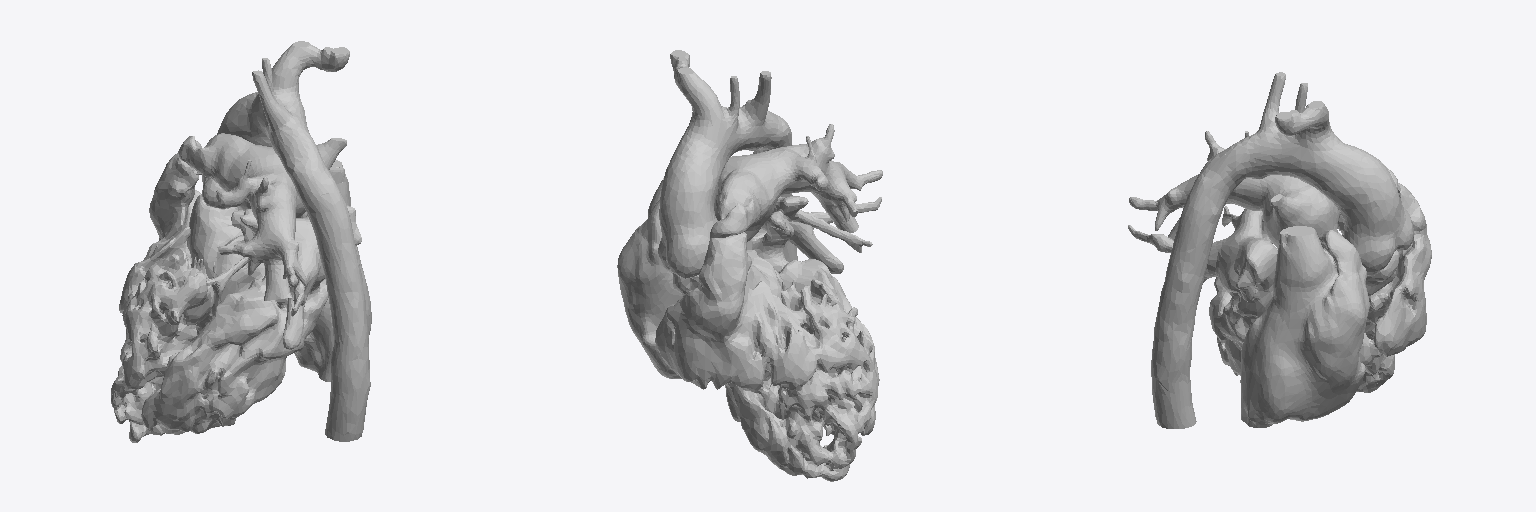
File: 2018008-01PulmonaryArterylowres.obj
3 renders of one model, left to right at view 1: azimuth 30°, elevation 25°; view 2: azimuth 150°, elevation 25°; view 3: azimuth 270°, elevation 25°, orthographic.
Visible parts, largest first — view 1: [number redacted]_Tga_Vsd_Rastelli_Repair_Left_Side_Edited, [number redacted]_Tga_Vsd_Rastelli_Repair_Ao_Edited, [number redacted]_Tga_Vsd_Rastelli_Repair_Rv_Edited, [number redacted]_Tga_Vsd_Rastelli_Repair_Pa_Edited, [number redacted]_Tga_Vsd_Rastelli_Repair_Ra_Edited; view 2: [number redacted]_Tga_Vsd_Rastelli_Repair_Rv_Edited, [number redacted]_Tga_Vsd_Rastelli_Repair_Ao_Edited, [number redacted]_Tga_Vsd_Rastelli_Repair_Pa_Edited, [number redacted]_Tga_Vsd_Rastelli_Repair_Left_Side_Edited, [number redacted]_Tga_Vsd_Rastelli_Repair_Ra_Edited; view 3: [number redacted]_Tga_Vsd_Rastelli_Repair_Ao_Edited, [number redacted]_Tga_Vsd_Rastelli_Repair_Ra_Edited, [number redacted]_Tga_Vsd_Rastelli_Repair_Left_Side_Edited, [number redacted]_Tga_Vsd_Rastelli_Repair_Rv_Edited, [number redacted]_Tga_Vsd_Rastelli_Repair_Pa_Edited.
Boxes of the visible parts, x1,y1,x2,y2 form: [number redacted]_Tga_Vsd_Rastelli_Repair_Left_Side_Edited: [141, 194, 361, 434]; [number redacted]_Tga_Vsd_Rastelli_Repair_Ao_Edited: [202, 41, 370, 441]; [number redacted]_Tga_Vsd_Rastelli_Repair_Rv_Edited: [111, 153, 215, 442]; [number redacted]_Tga_Vsd_Rastelli_Repair_Pa_Edited: [178, 133, 346, 300]; [number redacted]_Tga_Vsd_Rastelli_Repair_Ra_Edited: [294, 160, 371, 381]; [number redacted]_Tga_Vsd_Rastelli_Repair_Rv_Edited: [655, 232, 878, 481]; [number redacted]_Tga_Vsd_Rastelli_Repair_Ao_Edited: [658, 50, 797, 278]; [number redacted]_Tga_Vsd_Rastelli_Repair_Pa_Edited: [710, 124, 882, 241]; [number redacted]_Tga_Vsd_Rastelli_Repair_Left_Side_Edited: [673, 196, 881, 435]; [number redacted]_Tga_Vsd_Rastelli_Repair_Ra_Edited: [617, 178, 682, 378]; [number redacted]_Tga_Vsd_Rastelli_Repair_Ao_Edited: [1151, 72, 1413, 428]; [number redacted]_Tga_Vsd_Rastelli_Repair_Ra_Edited: [1240, 226, 1369, 427]; [number redacted]_Tga_Vsd_Rastelli_Repair_Left_Side_Edited: [1128, 206, 1398, 375]; [number redacted]_Tga_Vsd_Rastelli_Repair_Rv_Edited: [1277, 183, 1431, 392]; [number redacted]_Tga_Vsd_Rastelli_Repair_Pa_Edited: [1129, 131, 1397, 247].
Bounding box in the file's own units: 147 × 214 × 161.